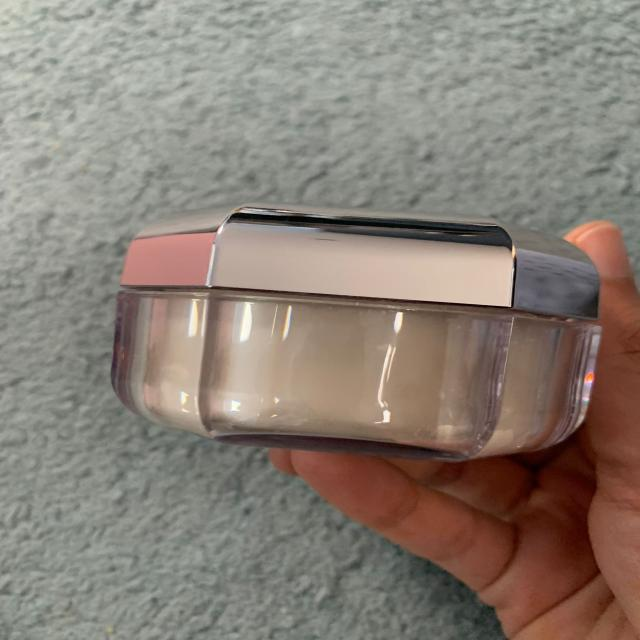powder: (92, 240, 617, 486)
